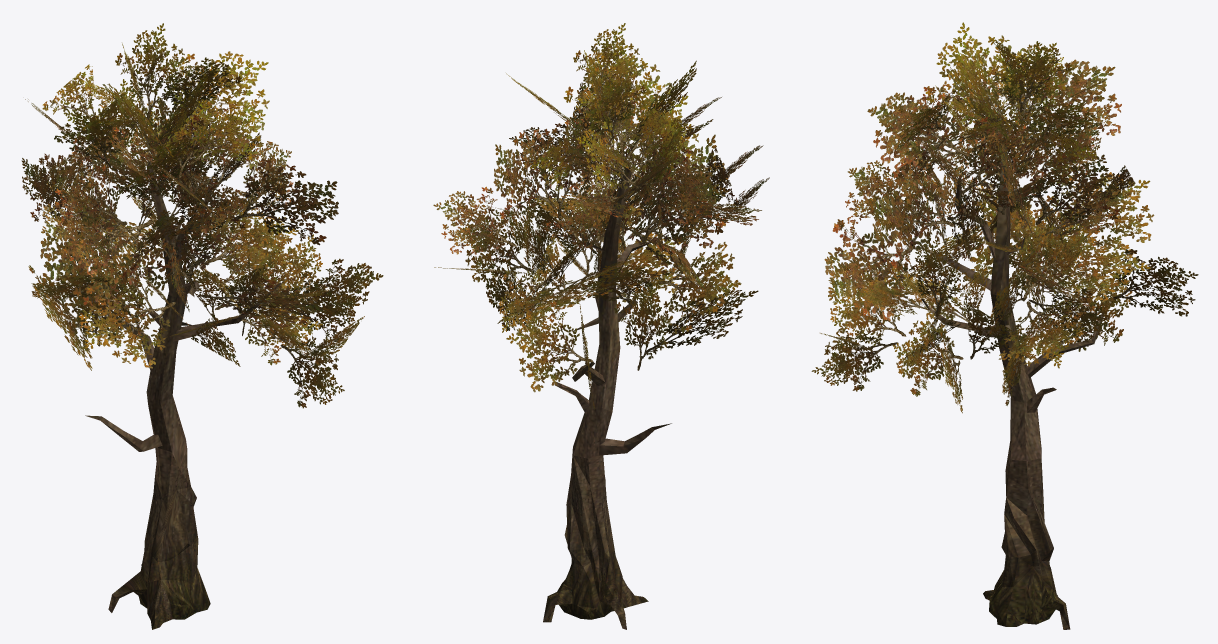
Rendered from d_sd_shu02b_zw.FBX.
3 views of the same model, side by side, from view 1: azimuth 30°, elevation 25°; view 2: azimuth 150°, elevation 25°; view 3: azimuth 270°, elevation 25° (orthographic). The views are drawn at different scales.
Visible parts, largest first — view 1: d_sd_shu02b_zw_B, d_sd_shu02b_zw_A; view 2: d_sd_shu02b_zw_B, d_sd_shu02b_zw_A; view 3: d_sd_shu02b_zw_B, d_sd_shu02b_zw_A.
Part boxes in pixels (left/top/right/bottom): d_sd_shu02b_zw_B: left=21, top=23, right=383, bottom=408; d_sd_shu02b_zw_A: left=81, top=161, right=280, bottom=629; d_sd_shu02b_zw_B: left=433, top=23, right=769, bottom=409; d_sd_shu02b_zw_A: left=543, top=153, right=671, bottom=629; d_sd_shu02b_zw_B: left=811, top=22, right=1198, bottom=413; d_sd_shu02b_zw_A: left=916, top=146, right=1104, bottom=629.
Size of the model in its own units: 716 by 1185 by 734.
